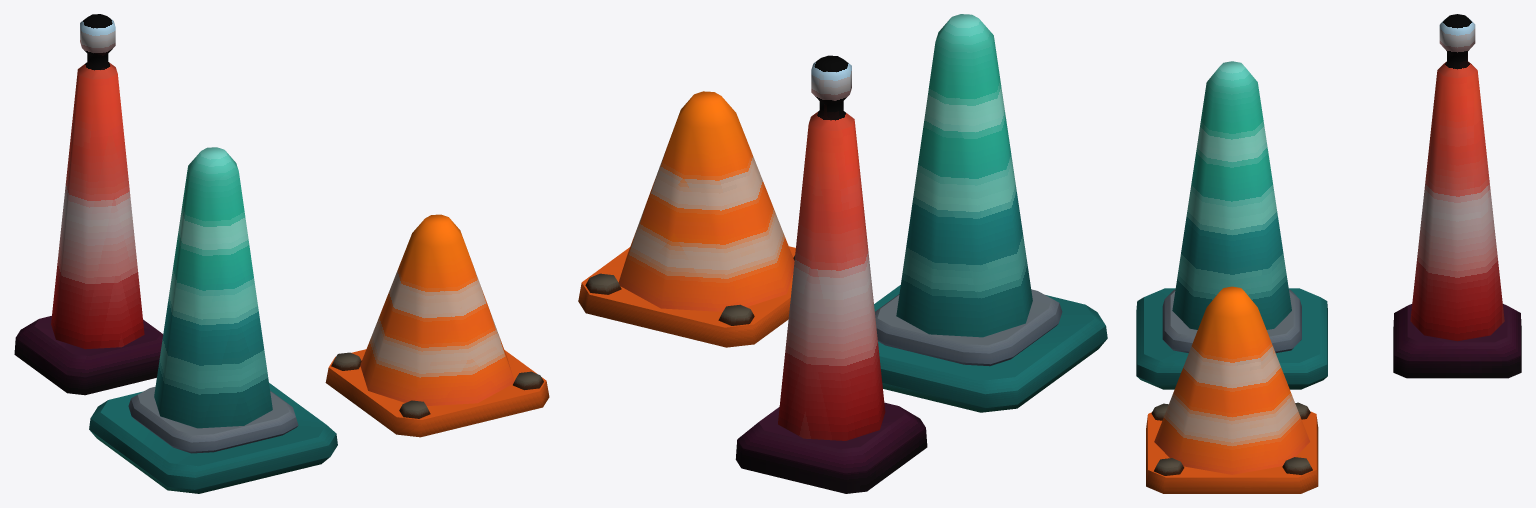
Rendered from cones.glb.
3 views of the same model, side by side, from view 1: azimuth 30°, elevation 25°; view 2: azimuth 150°, elevation 25°; view 3: azimuth 270°, elevation 25° (orthographic). The views are drawn at different scales.
Parts seen in each view (by area): view 1: Cone1_0, Cone2_1, Cone3_2; view 2: Cone1_0, Cone2_1, Cone3_2; view 3: Cone1_0, Cone2_1, Cone3_2.
Part boxes in pixels (bbox=[...]): Cone1_0: bbox=[89, 147, 337, 493]; Cone2_1: bbox=[14, 14, 163, 395]; Cone3_2: bbox=[325, 214, 549, 437]; Cone1_0: bbox=[874, 14, 1107, 412]; Cone2_1: bbox=[735, 55, 927, 493]; Cone3_2: bbox=[578, 91, 795, 347]; Cone1_0: bbox=[1136, 61, 1327, 389]; Cone2_1: bbox=[1393, 14, 1521, 378]; Cone3_2: bbox=[1146, 286, 1318, 493].
Size of the model in its own units: 0.4149 by 0.3509 by 0.3684.
Materials: 1 (1 with a texture image).
